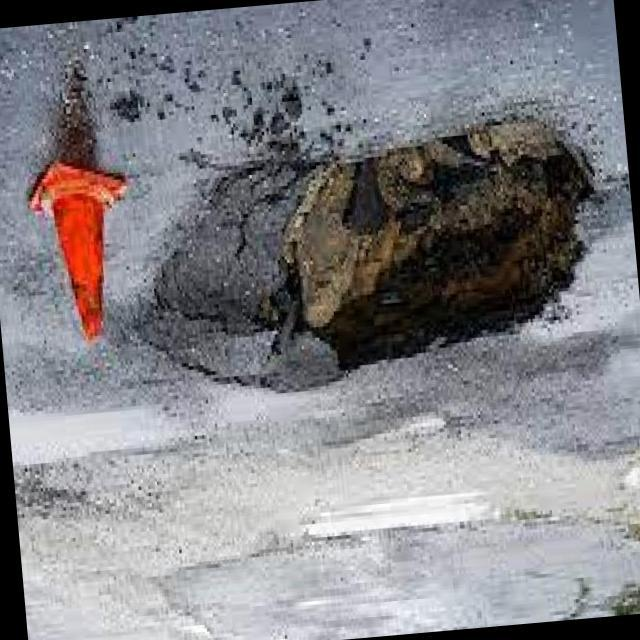pothole: (150, 92, 618, 404)
